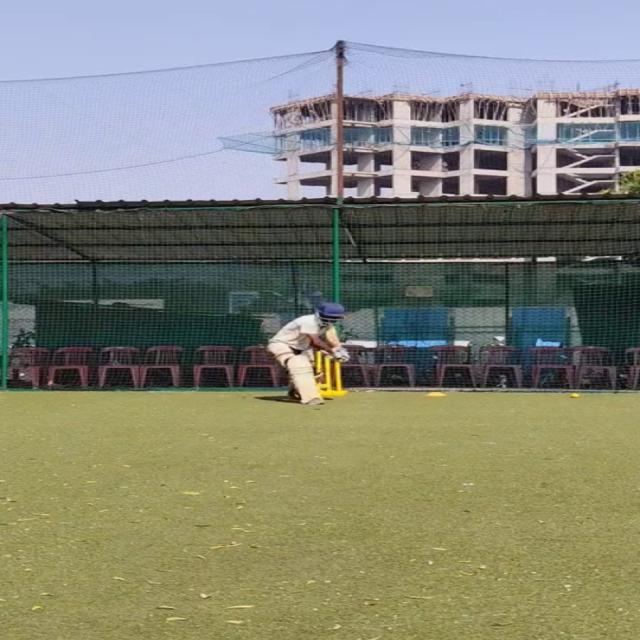ball: (568, 391, 584, 399)
stump: (313, 351, 346, 396)
